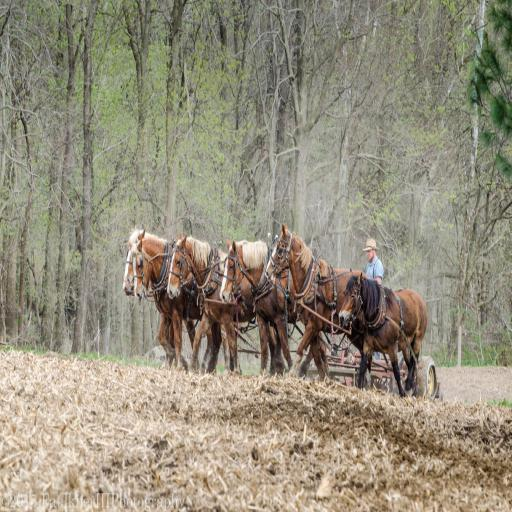horse: (122, 224, 428, 395)
